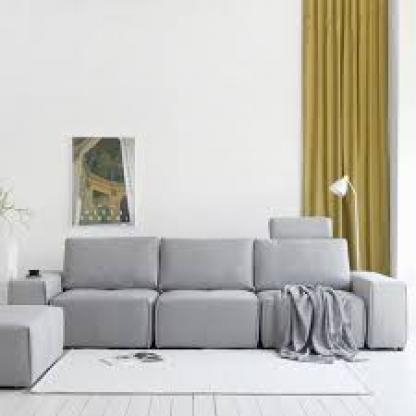sofa: (19, 235, 410, 357)
